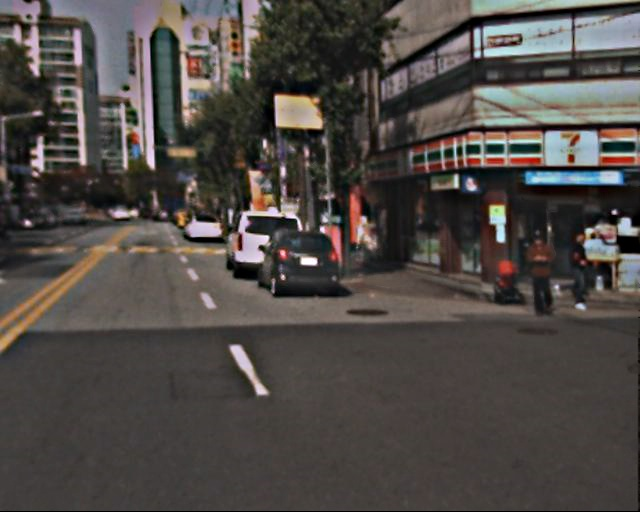person: (523, 231, 565, 318), (563, 226, 604, 309)
